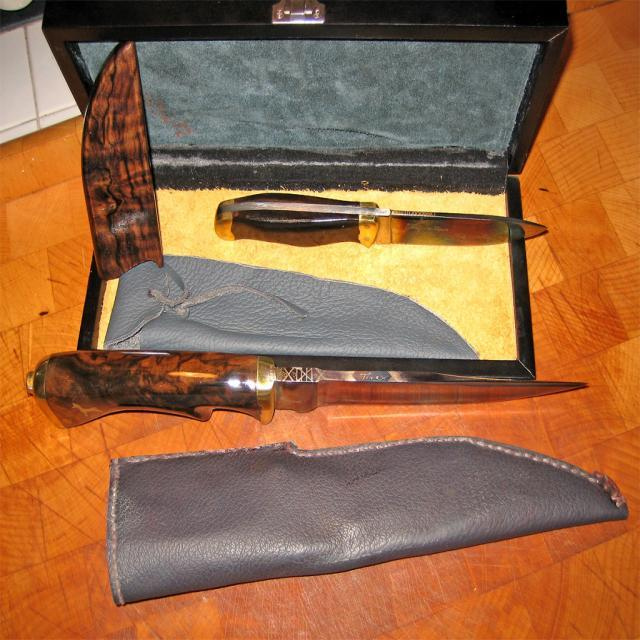Knife: (26, 350, 585, 426), (215, 192, 546, 246)
